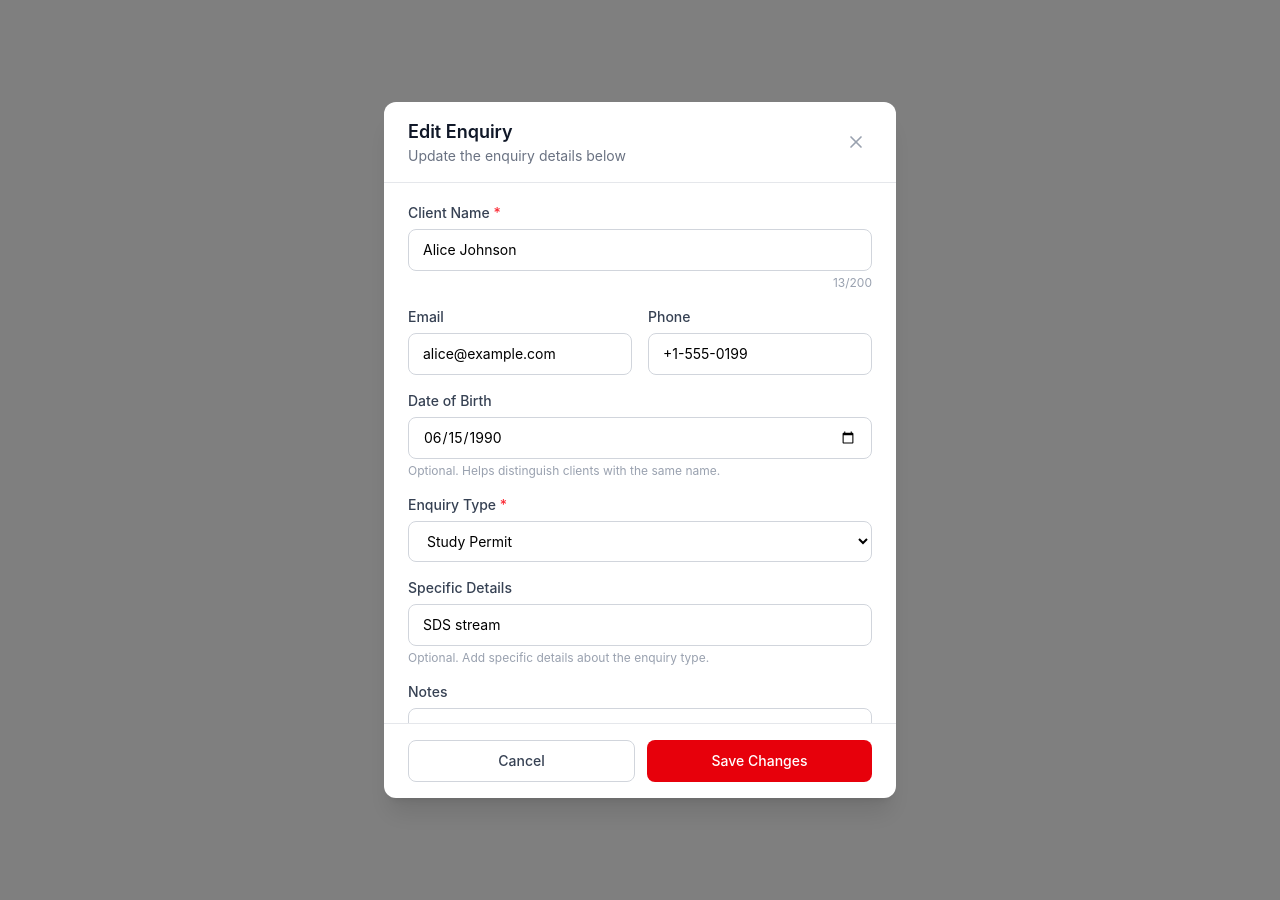
Test: EditEnquiryModal Component › Validation › should show error when client name is cleared
The width and height of the screenshot is (1280, 900).
Step 1. Clear the field labelled "Client Name *" → (640, 250), box top-left (408, 229), bottom-right (872, 271)
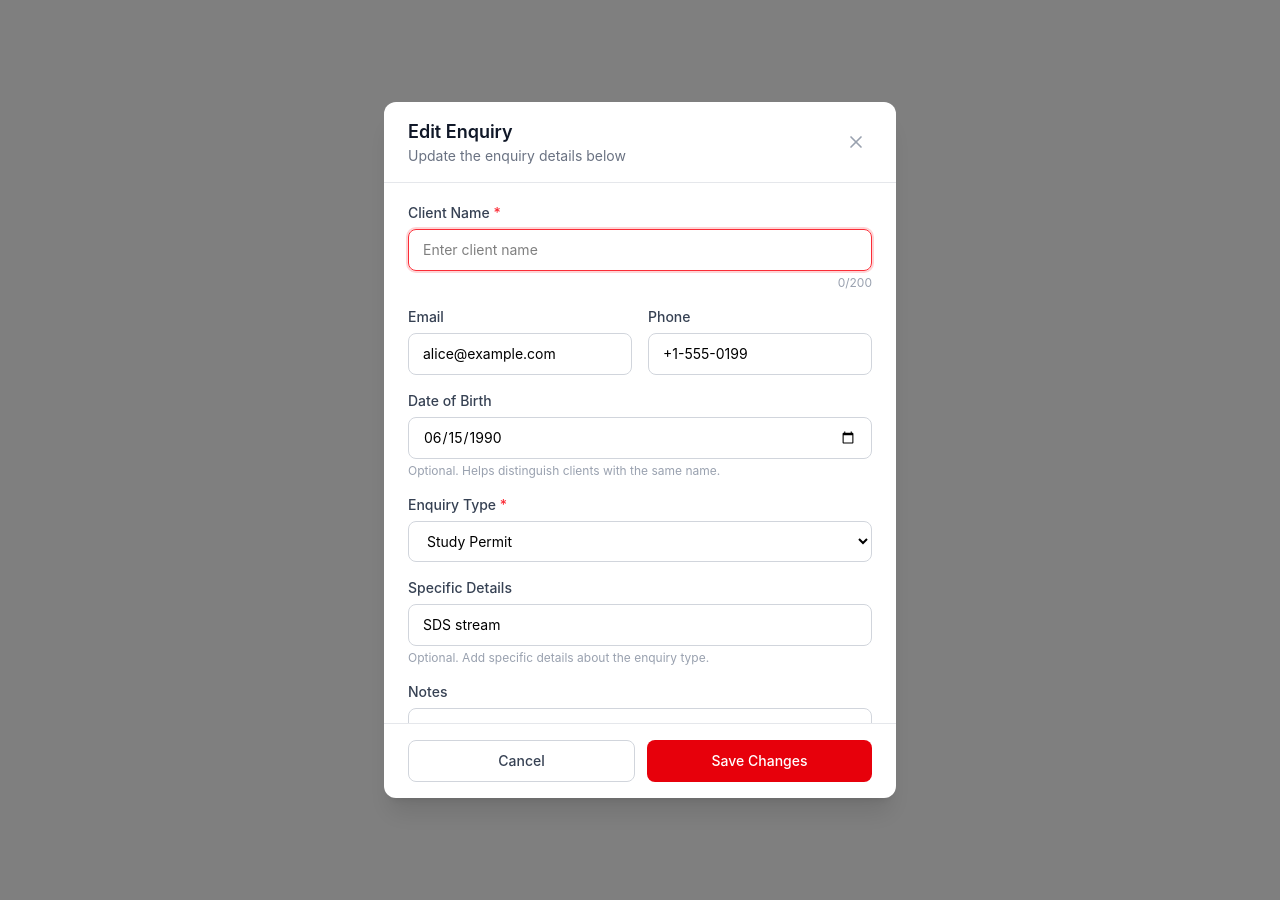
Step 2. Click the button "Save Changes" → (760, 761), box top-left (647, 740), bottom-right (872, 782)
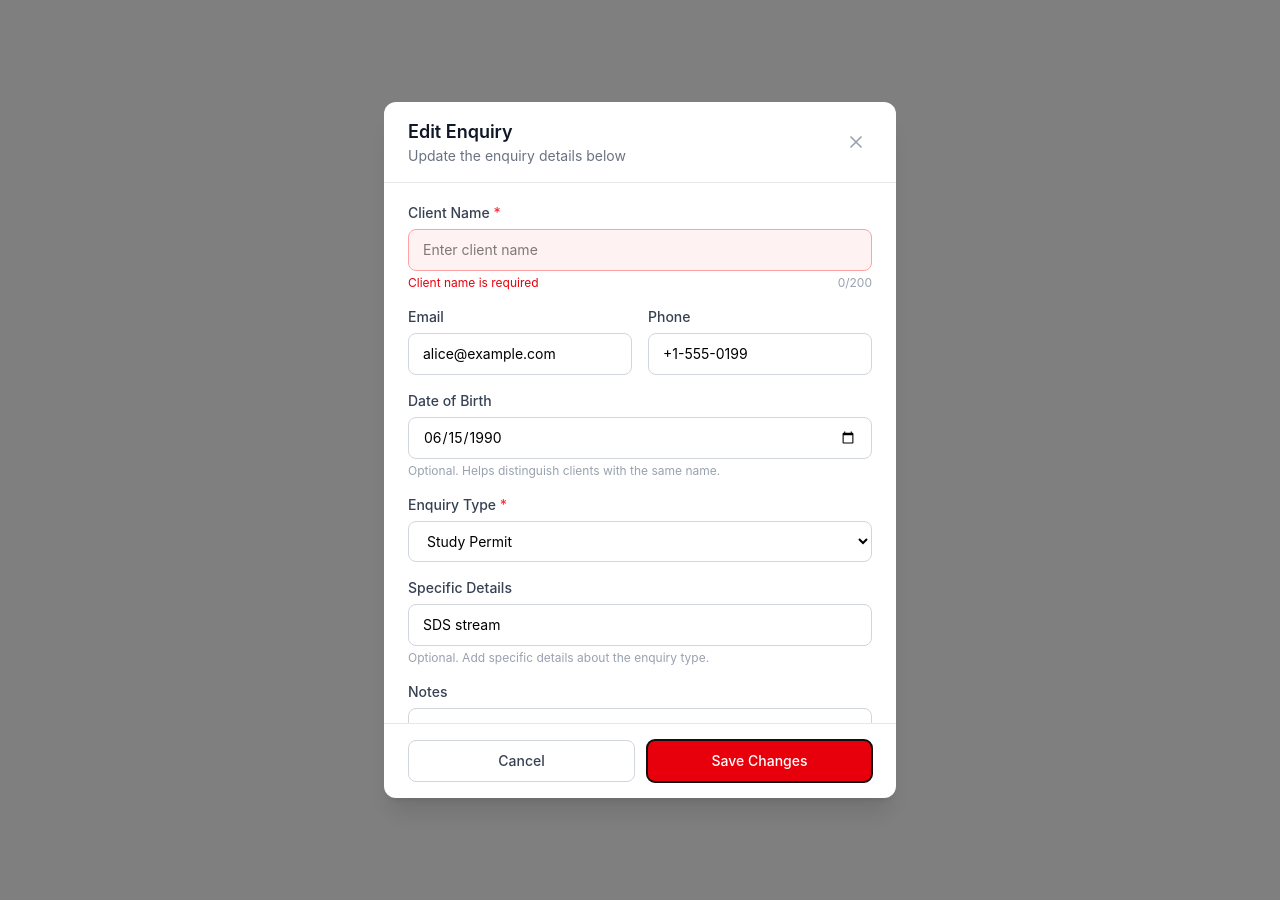
Result: the text "Client name is required" is shown at top-left (408, 275), bottom-right (539, 291)
